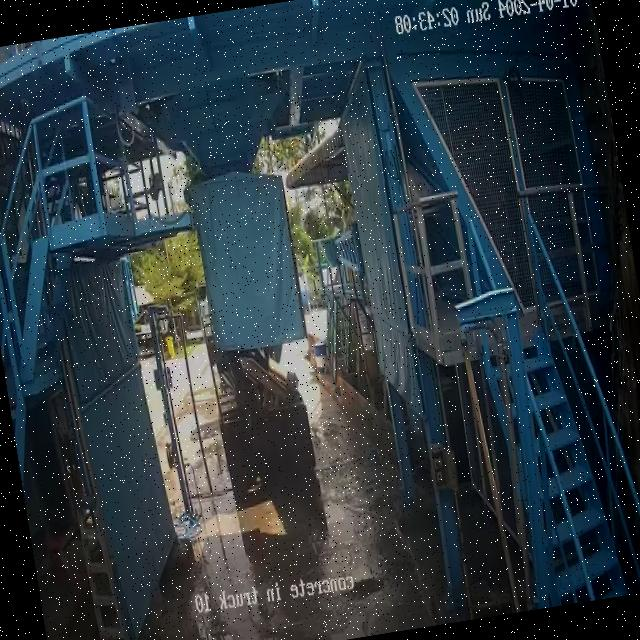cement_mixer_truck: (198, 284, 316, 492)
